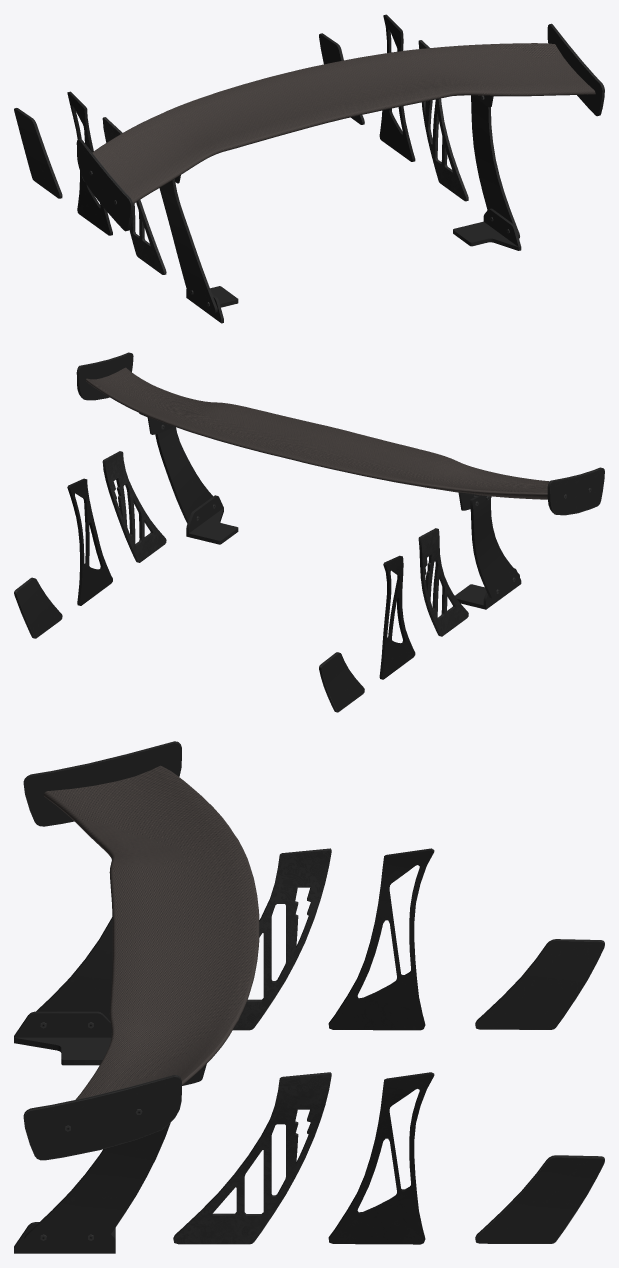
3 views of the same model, one above another, from view 1: azimuth 30°, elevation 25°; view 2: azimuth 150°, elevation 25°; view 3: azimuth 270°, elevation 25° (orthographic). The views are drawn at different scales.
Visible parts, largest first — view 1: bcl type wing.002_2, Box.004_5, bcl type wing.001_3, Box.003_6, Box.007_7, Box.001_9, Plane_8; view 2: bcl type wing.002_2, Box.003_6, Box.004_5, Box.007_7, bcl type wing.001_3, Box.001_9, Plane_8, bcl type wing.004_4; view 3: bcl type wing.002_2, Box.003_6, Box.007_7, bcl type wing.001_3, Box.001_9, Box.004_5, Plane_8.
Part boxes in pixels (x1,y1,x2,y2): bcl type wing.002_2: (92,43,595,203); Box.004_5: (159,95,519,312); bcl type wing.001_3: (76,23,604,231); Box.003_6: (102,40,468,274); Box.007_7: (67,14,415,235); Box.001_9: (14,33,364,198); Plane_8: (186,208,521,323); bcl type wing.002_2: (86,367,549,499); Box.003_6: (102,451,468,636); Box.004_5: (155,426,519,598); Box.007_7: (67,478,415,679); bcl type wing.001_3: (76,352,604,515); Box.001_9: (14,577,364,712); Plane_8: (186,495,521,609); bcl type wing.004_4: (139,413,491,510); bcl type wing.002_2: (43,765,259,1099); Box.003_6: (173,848,331,1244); Box.007_7: (328,848,434,1244); bcl type wing.001_3: (23,741,181,1160); Box.001_9: (475,939,604,1243); Box.004_5: (24,917,170,1244); Plane_8: (14,1011,115,1253).
Size of the model in its own units: 6.76 by 2.23 by 5.02.
Materials: 6 (6 with a texture image).
